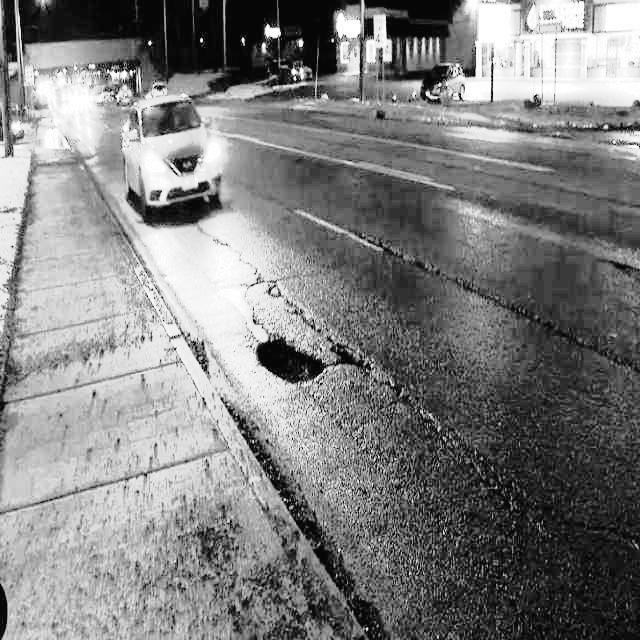Car: (119, 90, 226, 208)
Pothole: (254, 329, 369, 387)
